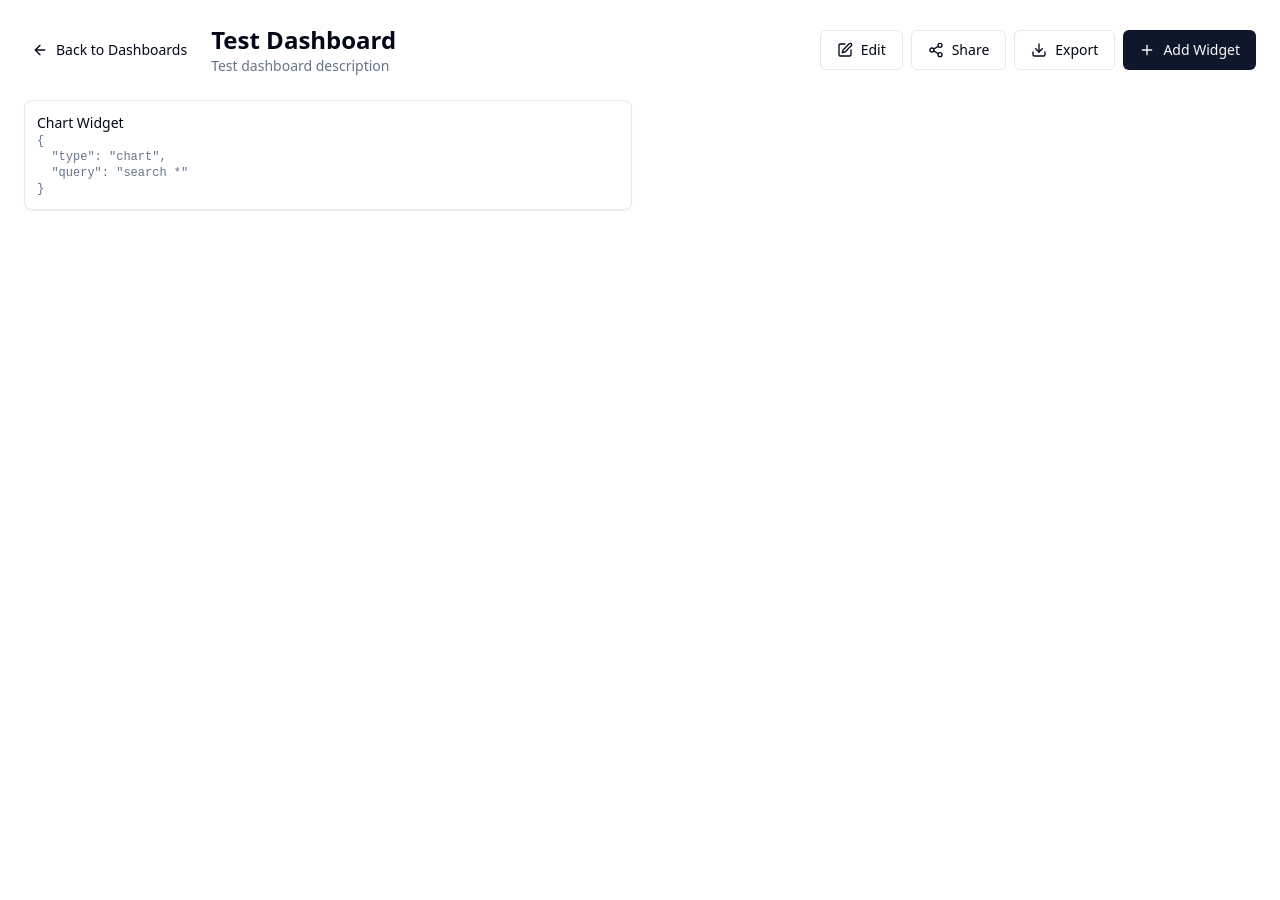
Dashboard Export › closes export modal when cancel button is clicked
Expected: the heading "Test Dashboard" is shown, [211,24,396,56]
Click the button "Export": (1065, 50) [1014,30,1115,70]
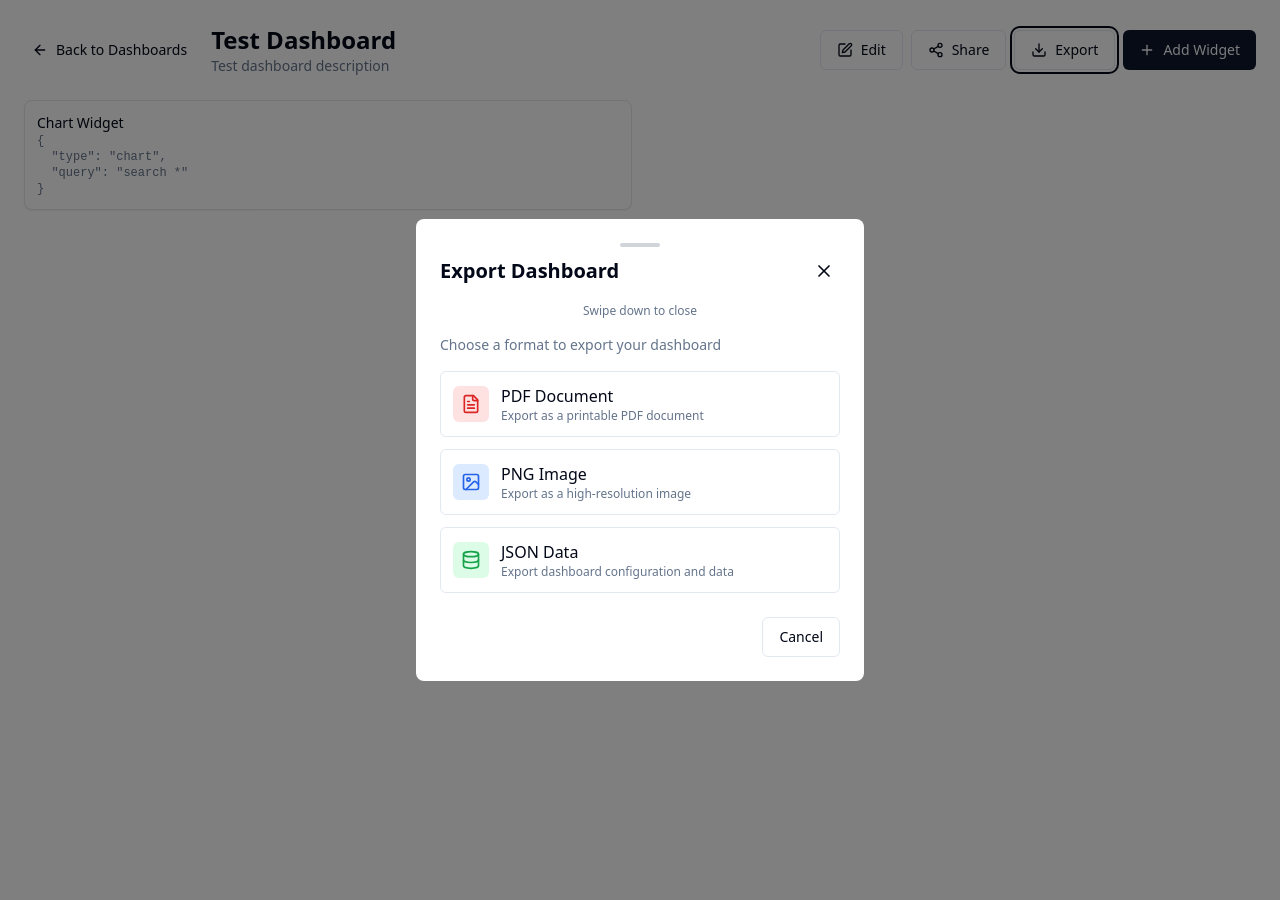
Expected: the heading "Export Dashboard" is shown, [440,257,619,285]
Click the button "Cancel": (801, 637) [762,617,840,657]
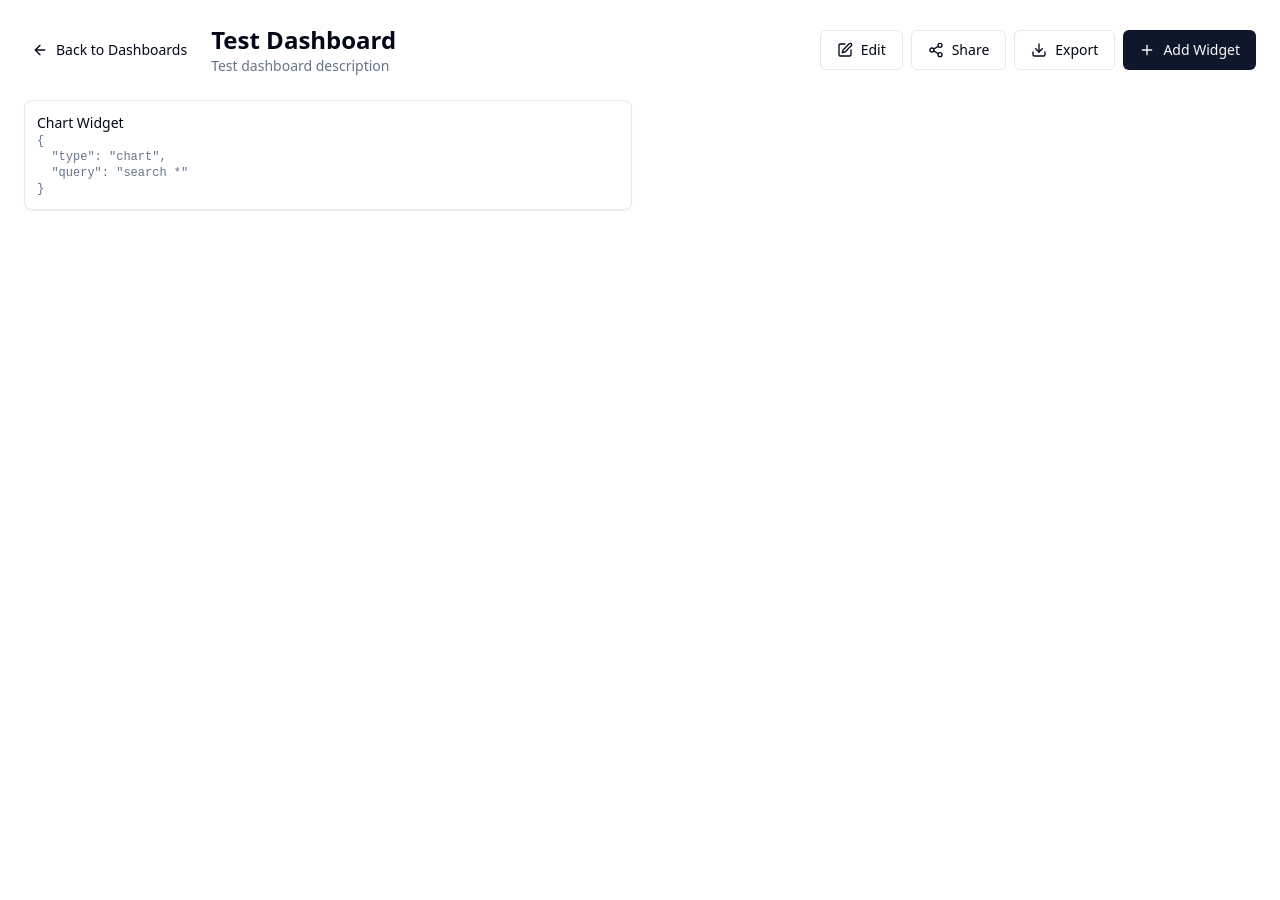
Expected: the heading "Export Dashboard" is gone
